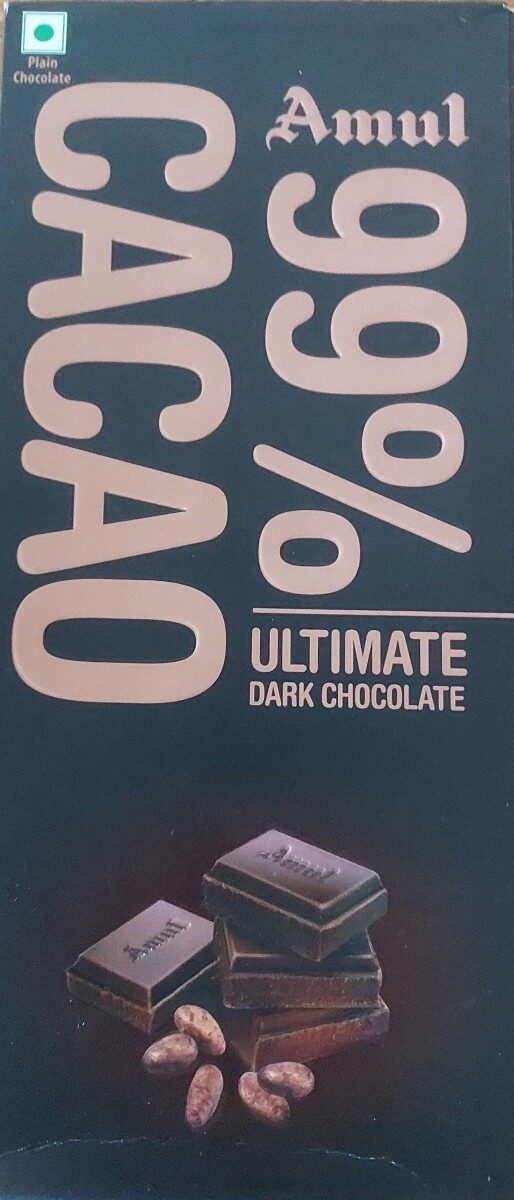99% Cacao Ultimate Dark Chocolate: (46, 108, 468, 1092)
